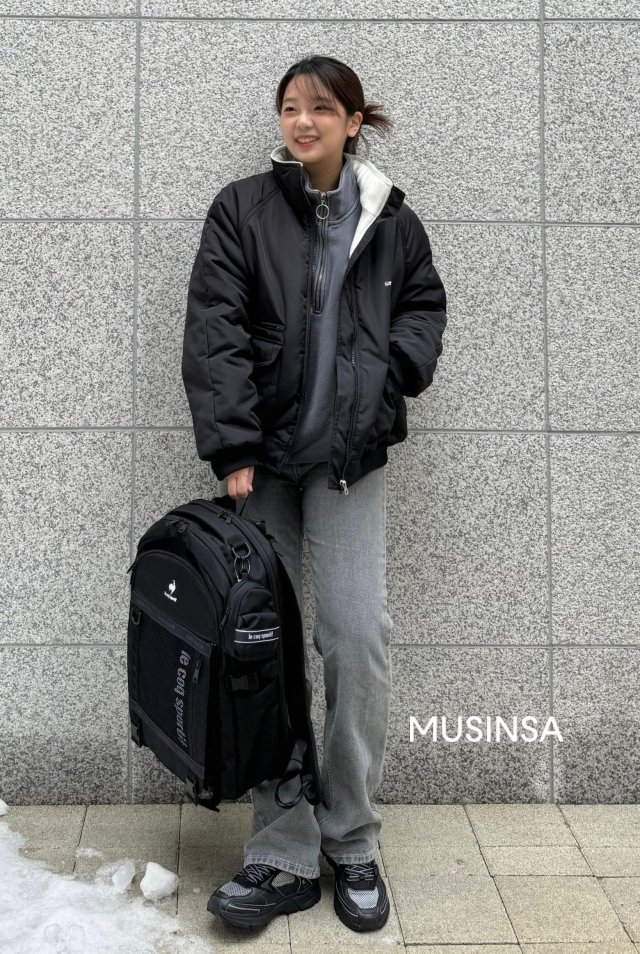Backpack: (115, 486, 320, 791)
Jeans: (246, 471, 389, 865)
Outer: (185, 146, 443, 478)
Shoes: (211, 854, 401, 936)
